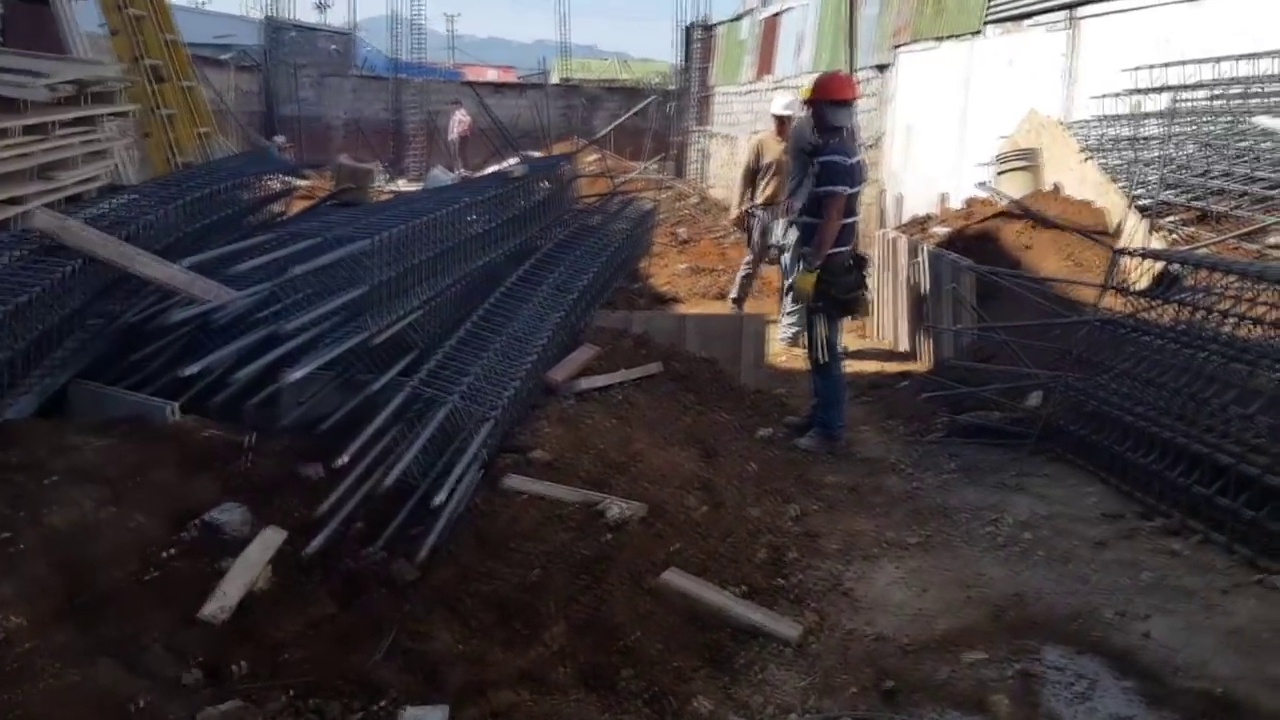helmet: (802, 70, 860, 102), (769, 92, 798, 117)
helmet-off: (451, 100, 463, 111)
helmet-on: (802, 70, 860, 137), (768, 92, 797, 141)
person: (767, 70, 871, 452), (727, 91, 815, 314), (445, 99, 473, 177)
